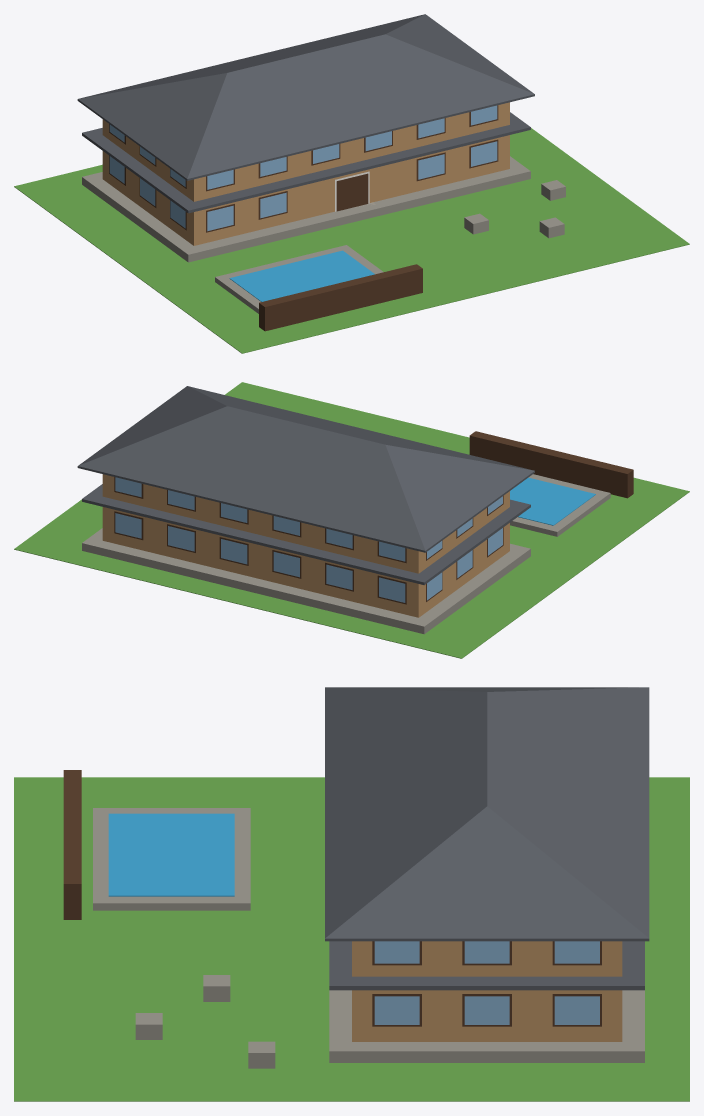
The model's file is ryokan.glb.
The picture shows the model from 3 angles, top to bottom: view 1: azimuth 30°, elevation 25°; view 2: azimuth 150°, elevation 25°; view 3: azimuth 270°, elevation 25°; orthographic projection. The views are drawn at different scales.
Parts seen in each view (by area): view 1: ryokan; view 2: ryokan; view 3: ryokan.
Part boxes in pixels (bbox=[...]): ryokan: bbox=[14, 14, 689, 353]; ryokan: bbox=[14, 382, 689, 658]; ryokan: bbox=[14, 687, 689, 1101].
Size of the model in its own units: 34 by 9.34 by 30.
Materials: 1 (1 with a texture image).
